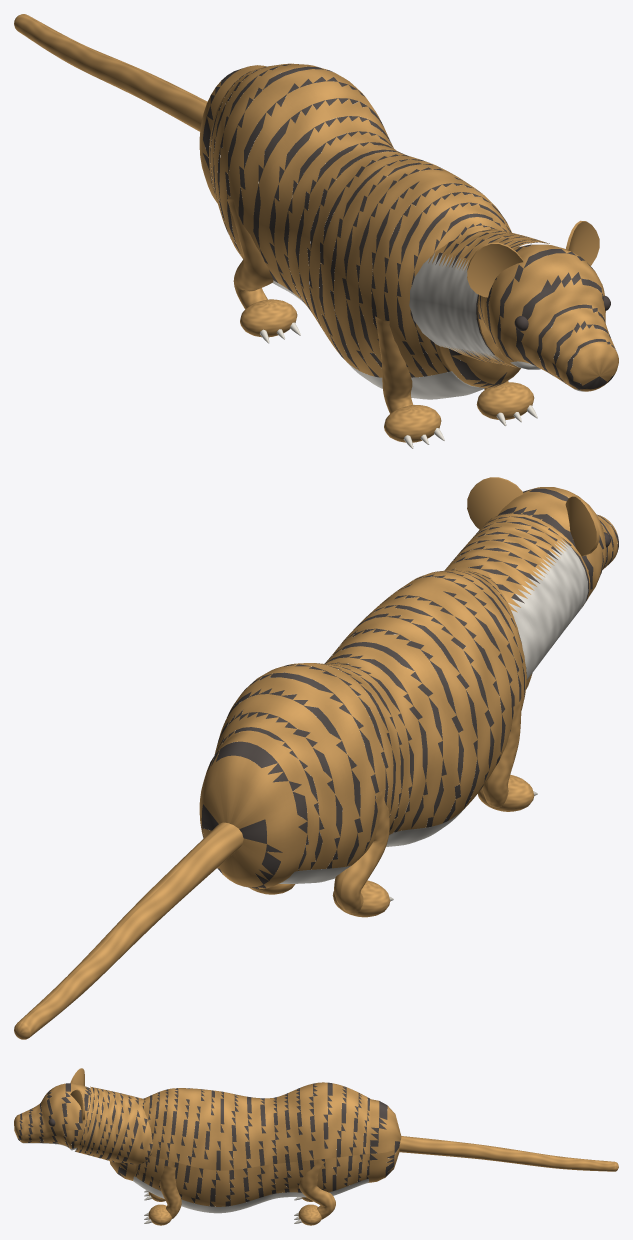
The model's file is exotic-wildlife-hd-bengal-tiger-prowling-b1de9790.glb.
The picture shows the model from 3 angles, top to bottom: view 1: azimuth 30°, elevation 25°; view 2: azimuth 150°, elevation 25°; view 3: azimuth 270°, elevation 25°; orthographic projection. The views are drawn at different scales.
Parts seen in each view (by area): view 1: bengal-tiger-prowling; view 2: bengal-tiger-prowling; view 3: bengal-tiger-prowling.
Part boxes in pixels (bbox=[...]): bengal-tiger-prowling: bbox=[14, 14, 618, 448]; bengal-tiger-prowling: bbox=[14, 477, 618, 1039]; bengal-tiger-prowling: bbox=[14, 1068, 618, 1225].
Bounding box in the file's own units: 0.5783 × 0.9336 × 3.9.
Materials: 6 (3 with a texture image).
